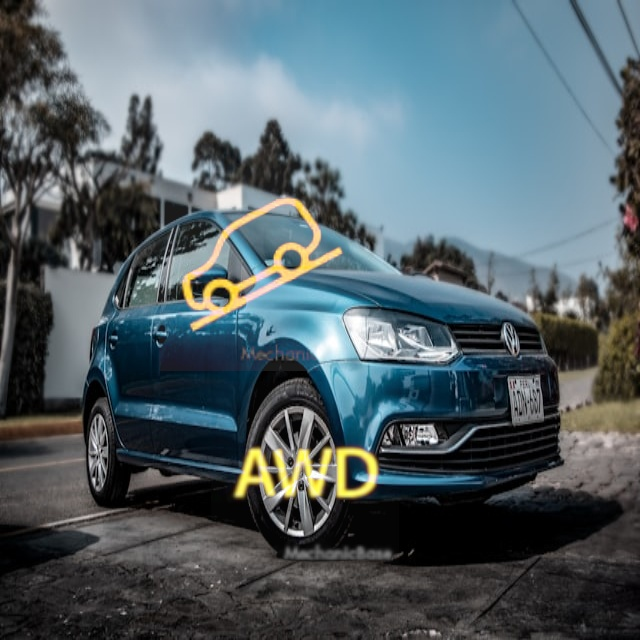symbol: (159, 163, 367, 371), (211, 381, 399, 569)
